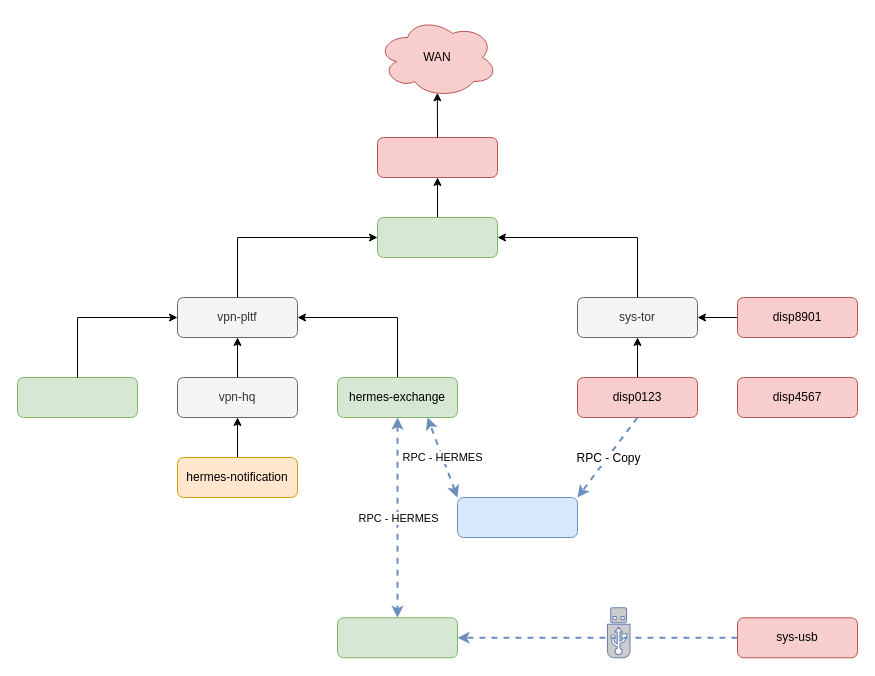
Some shapes in this 875 by 676 pixel diagram are drawn without their labels. Here are the shapes that lost their labels. From the top down, the centre of each, then its label:
At (x=437, y=157): "sys-net".
At (x=437, y=237): "sys-firewall".
At (x=77, y=397): "hermes-webui".
At (x=517, y=517): "hermes-inbox".
At (x=397, y=637): "hermes-exchange-usb".
